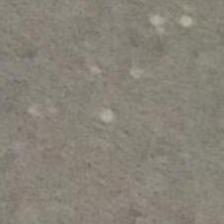Non_Crack: (16, 18, 206, 220)
